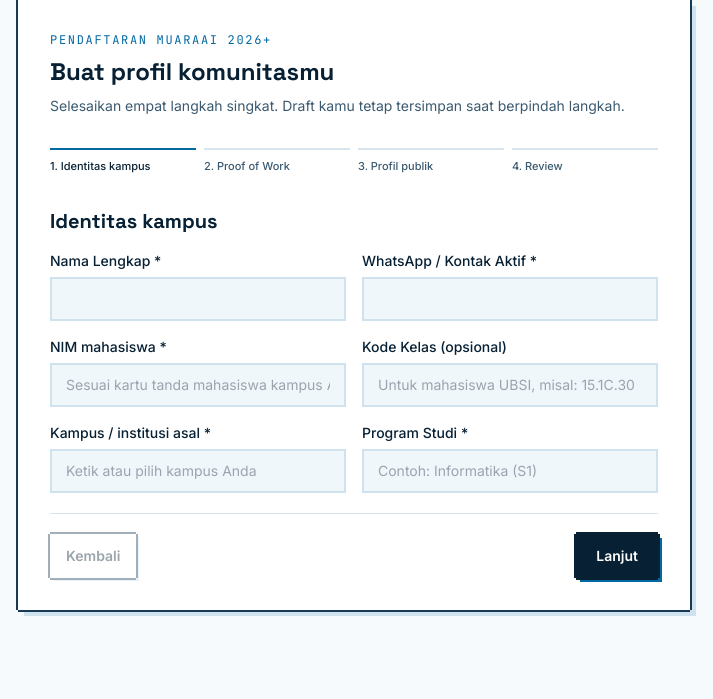
Test: guided national onboarding › requires legal agreement before the GitHub handoff
The width and height of the screenshot is (713, 699).
Click the button "Lanjut": (617, 556) top-left (576, 534), bottom-right (658, 578)
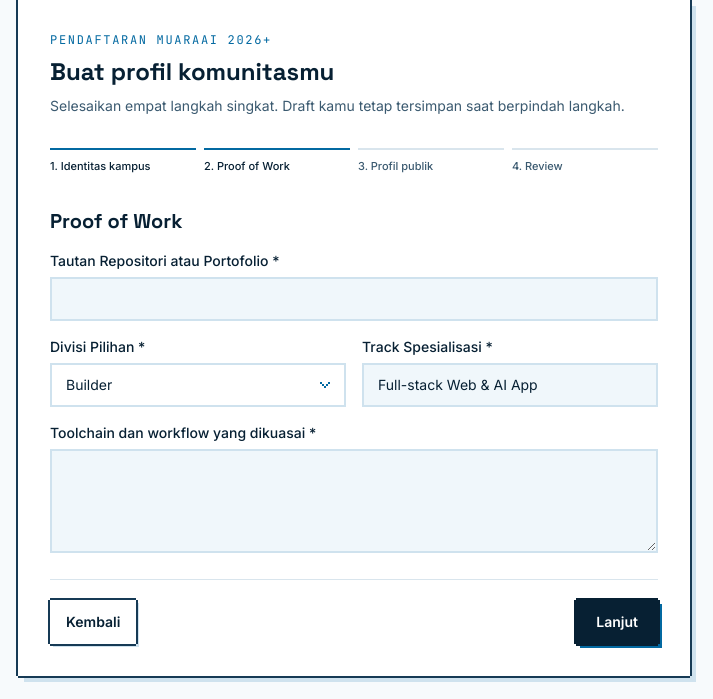
Click the button "Lanjut": (617, 622) top-left (576, 600), bottom-right (658, 644)
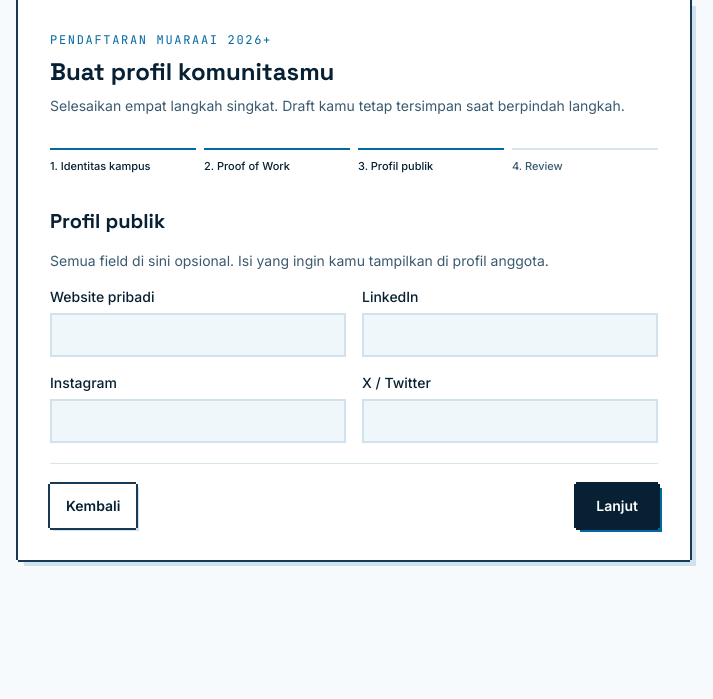
Click the button "Lanjut": (617, 506) top-left (576, 484), bottom-right (658, 528)
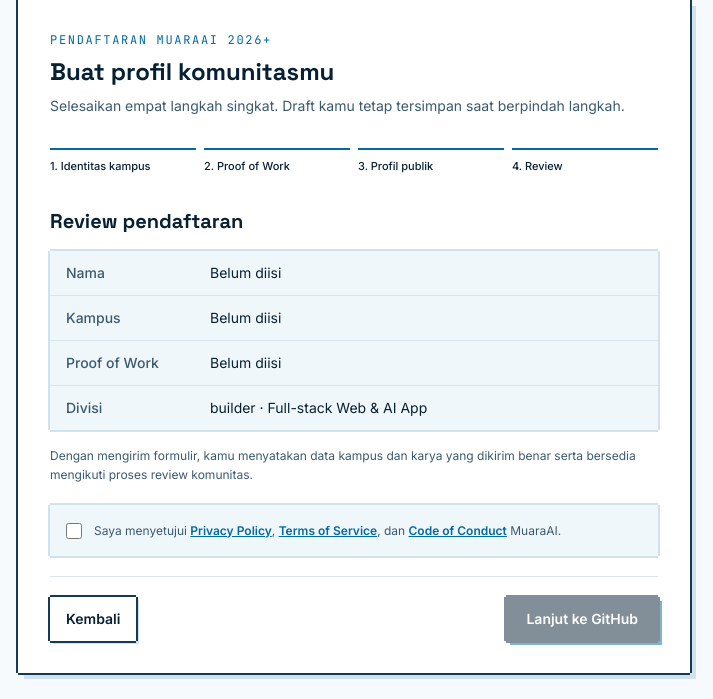
Check: the button "Lanjut ke GitHub" is disabled, box top-left (506, 597), bottom-right (658, 641)
Check: the link "Privacy Policy" is shown, box top-left (190, 522), bottom-right (272, 538)
Click the checkbox: (74, 530) top-left (66, 522), bottom-right (82, 538)
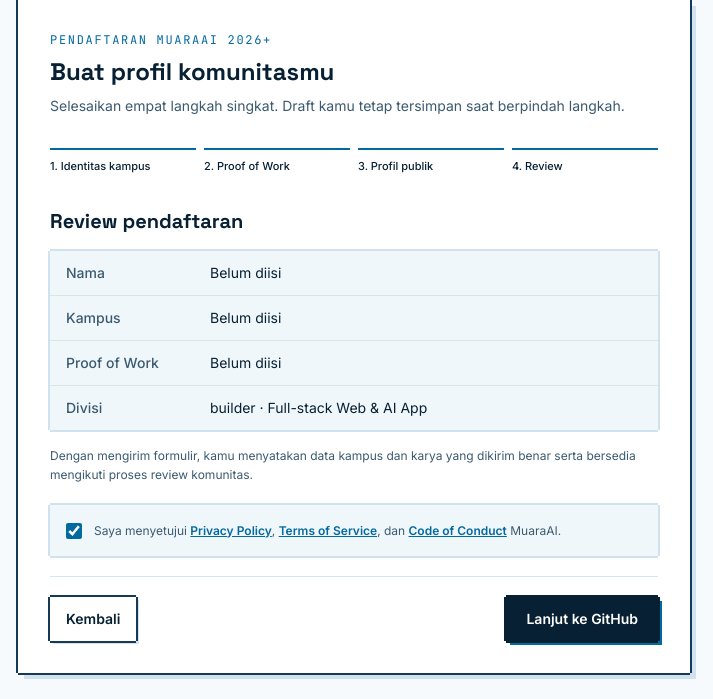
Check: the button "Lanjut ke GitHub" is enabled, box top-left (506, 597), bottom-right (658, 641)
